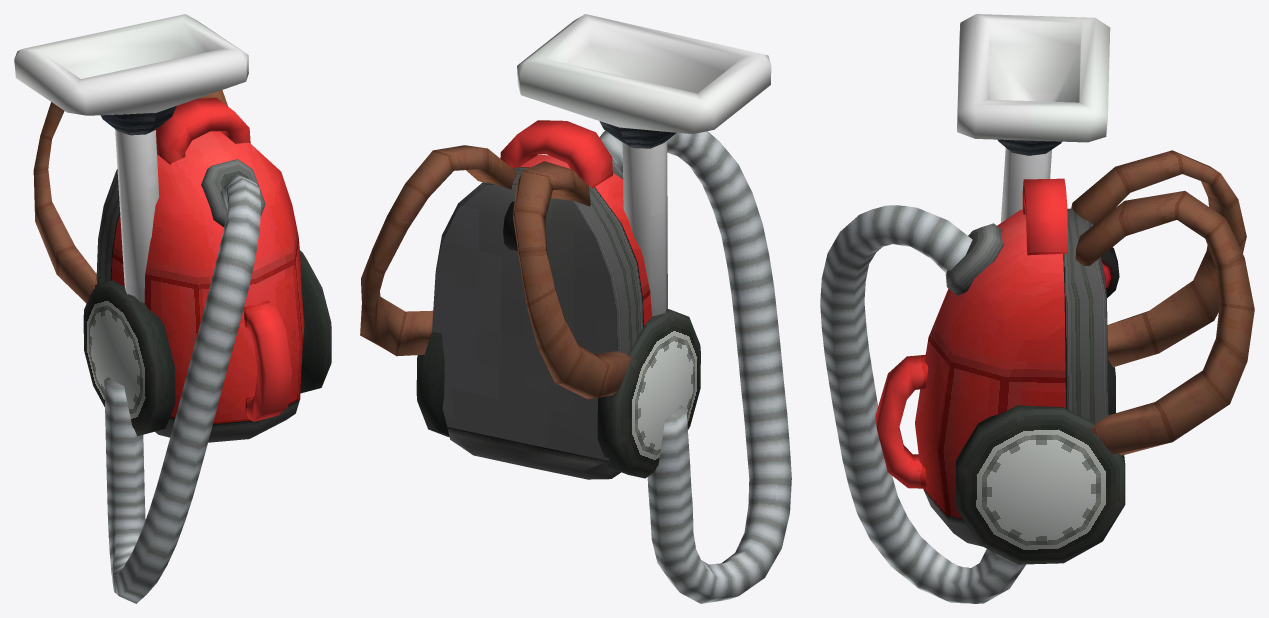
Rendered from poltergust.glb.
The picture shows the model from 3 angles, left to right: view 1: azimuth 30°, elevation 25°; view 2: azimuth 150°, elevation 25°; view 3: azimuth 270°, elevation 25°; orthographic projection. The views are drawn at different scales.
Visible parts, largest first — view 1: poltergust; view 2: poltergust; view 3: poltergust.
Part boxes in pixels (x1=…): poltergust: x1=14, y1=14, x2=331, y2=603; poltergust: x1=360, y1=14, x2=791, y2=603; poltergust: x1=820, y1=14, x2=1254, y2=603.
Size of the model in its own units: 70.35 by 129 by 89.86.
Materials: 13 (13 with a texture image).
